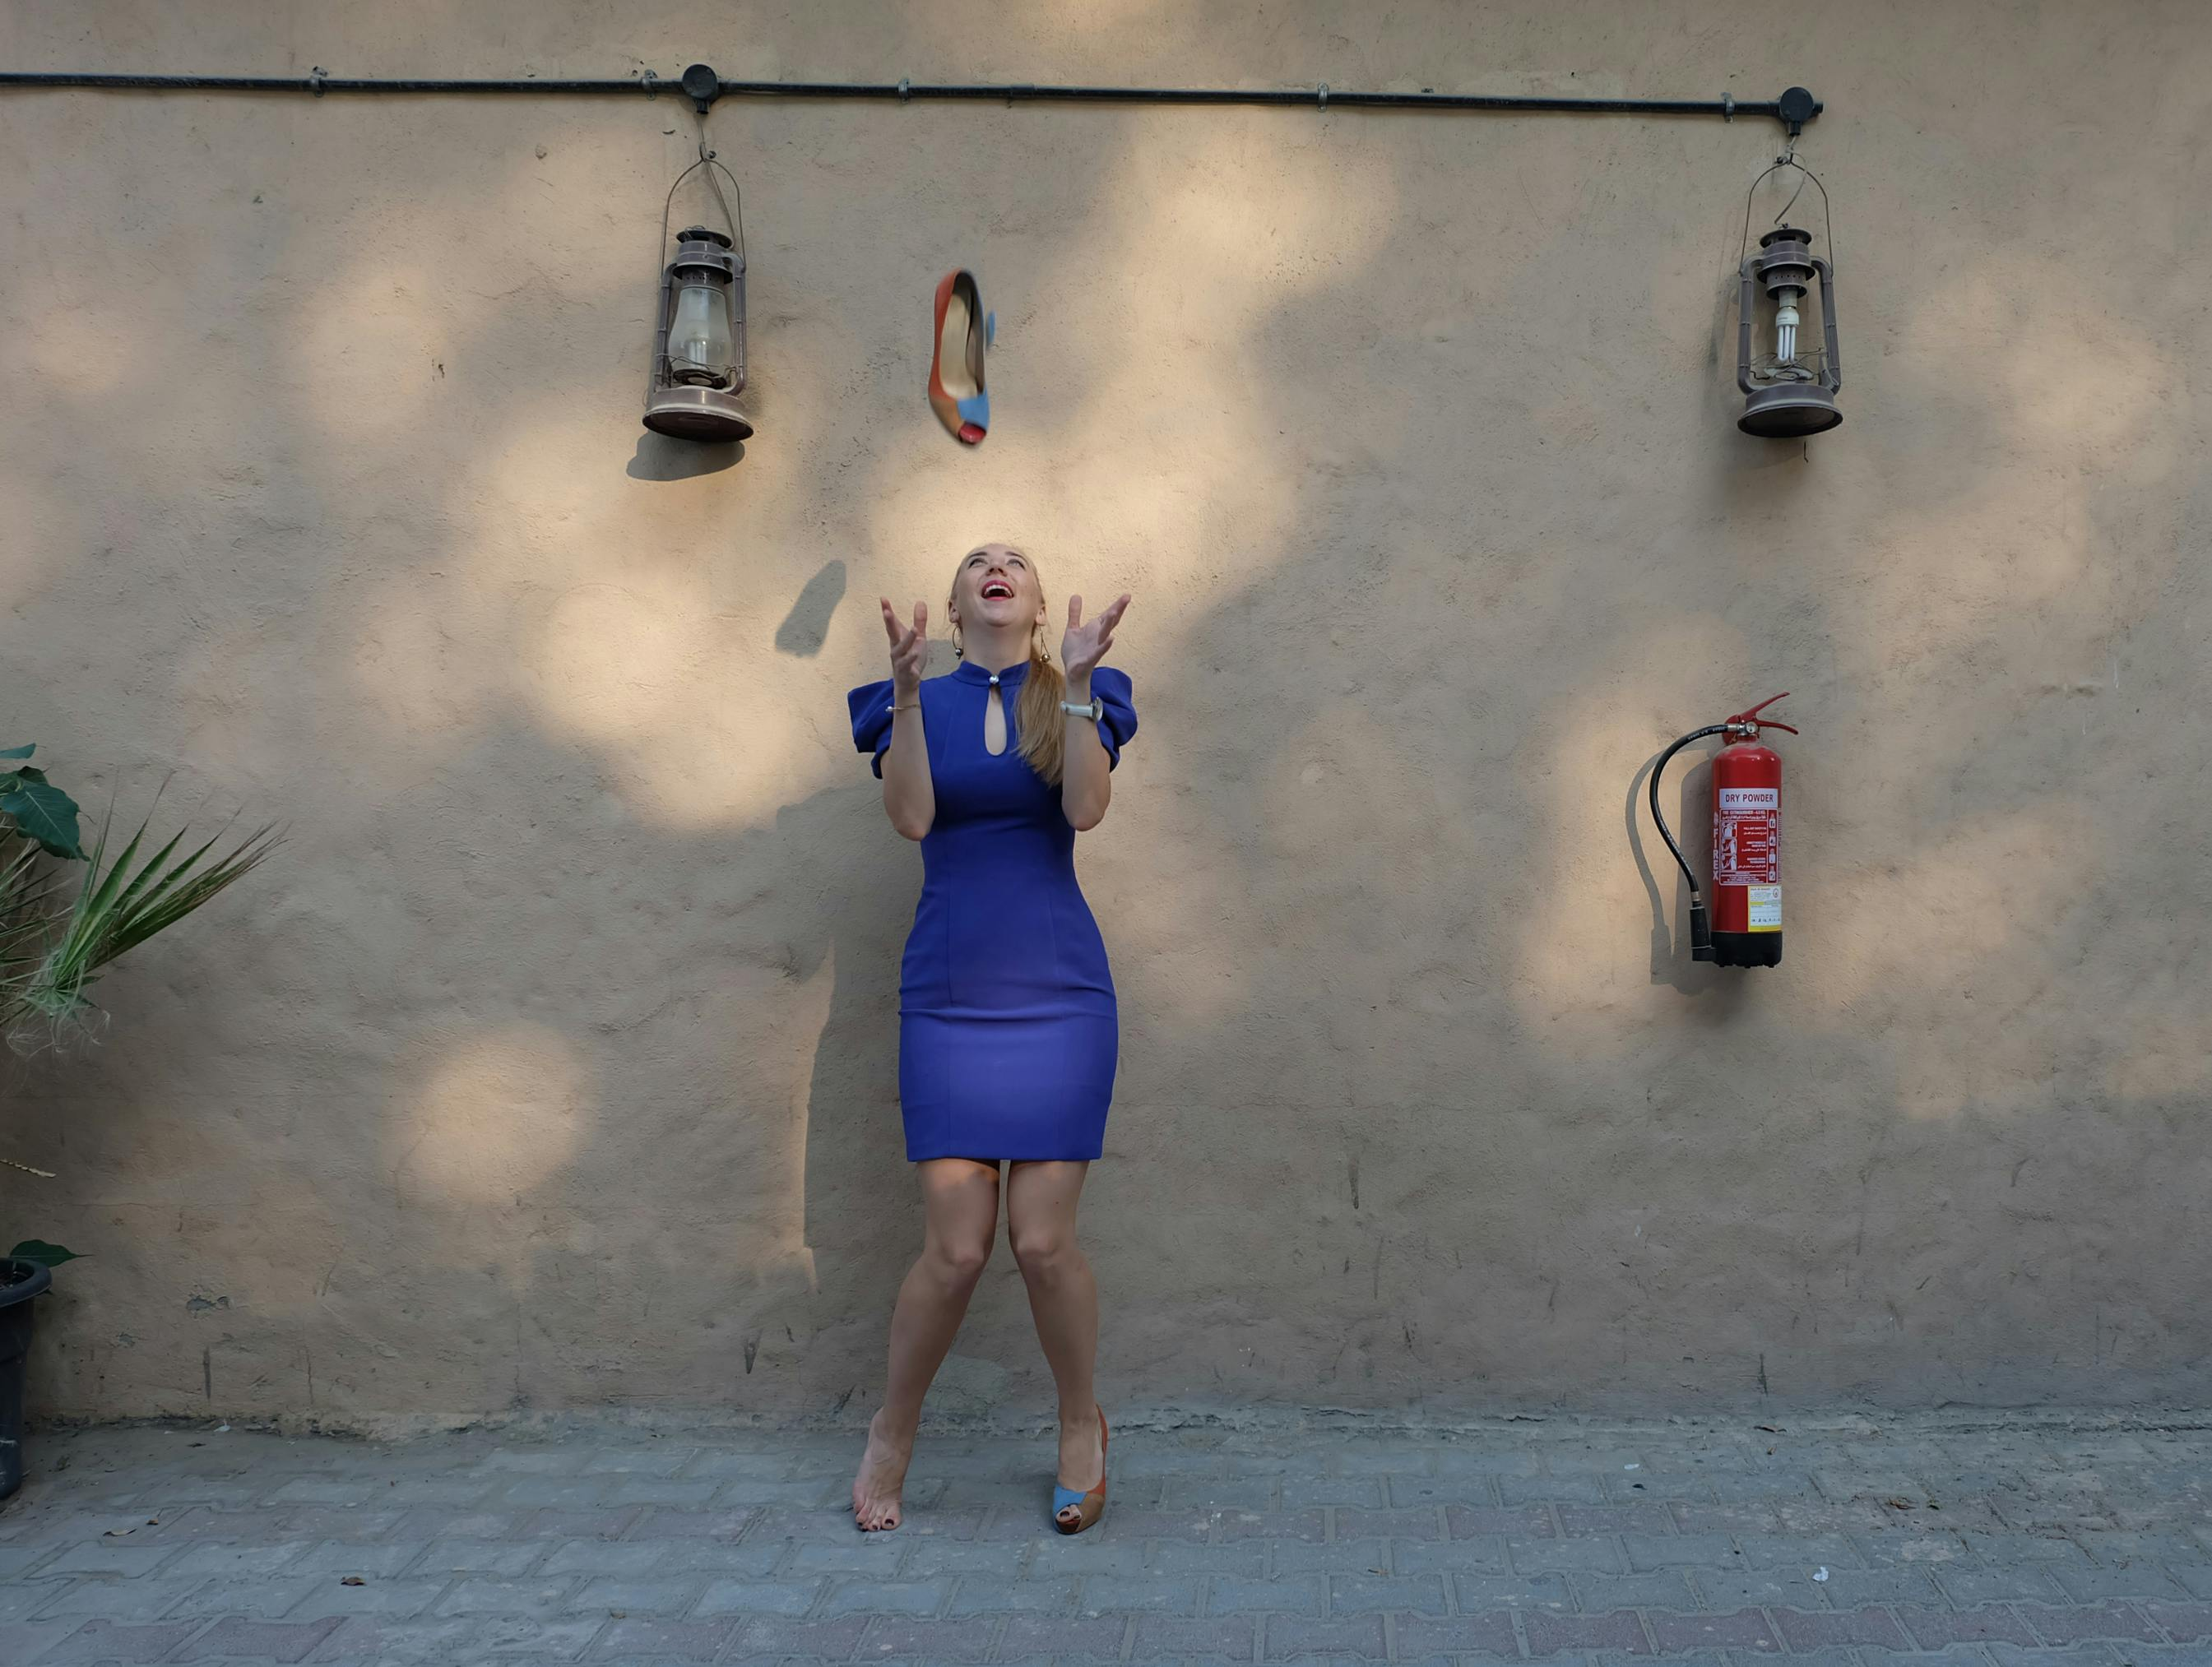extintor: (1629, 676, 1820, 988)
